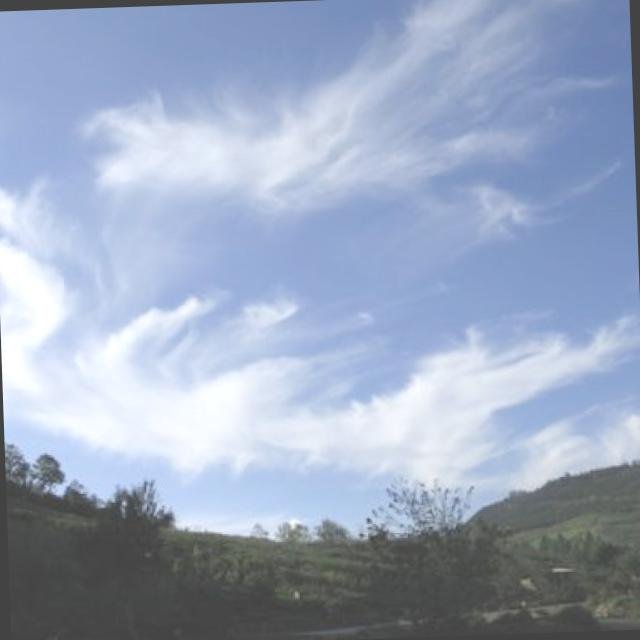Ci: (86, 1, 630, 267)
